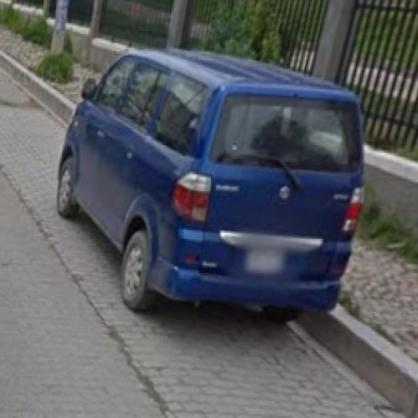car: (63, 49, 367, 323)
